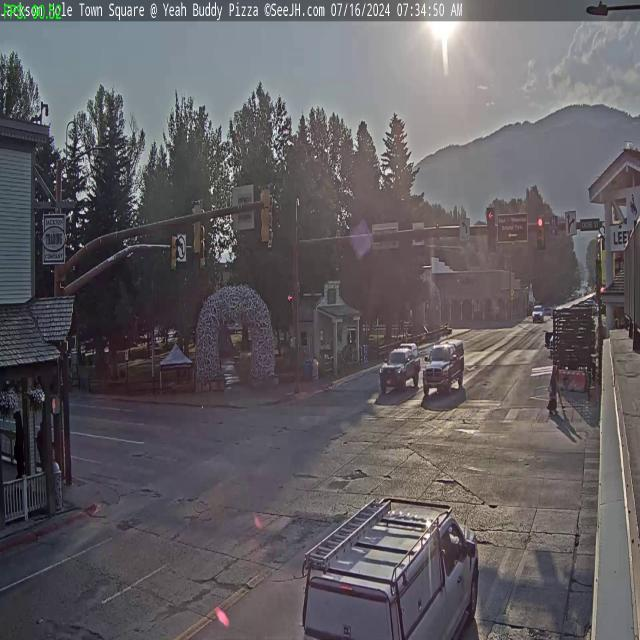person: (548, 359, 560, 414)
pickup: (300, 492, 482, 639), (426, 336, 463, 398)
suv: (380, 342, 421, 391), (532, 303, 546, 322)
traffic light: (260, 183, 273, 244), (190, 199, 203, 257), (487, 208, 495, 253), (170, 234, 179, 271), (536, 214, 545, 249)
